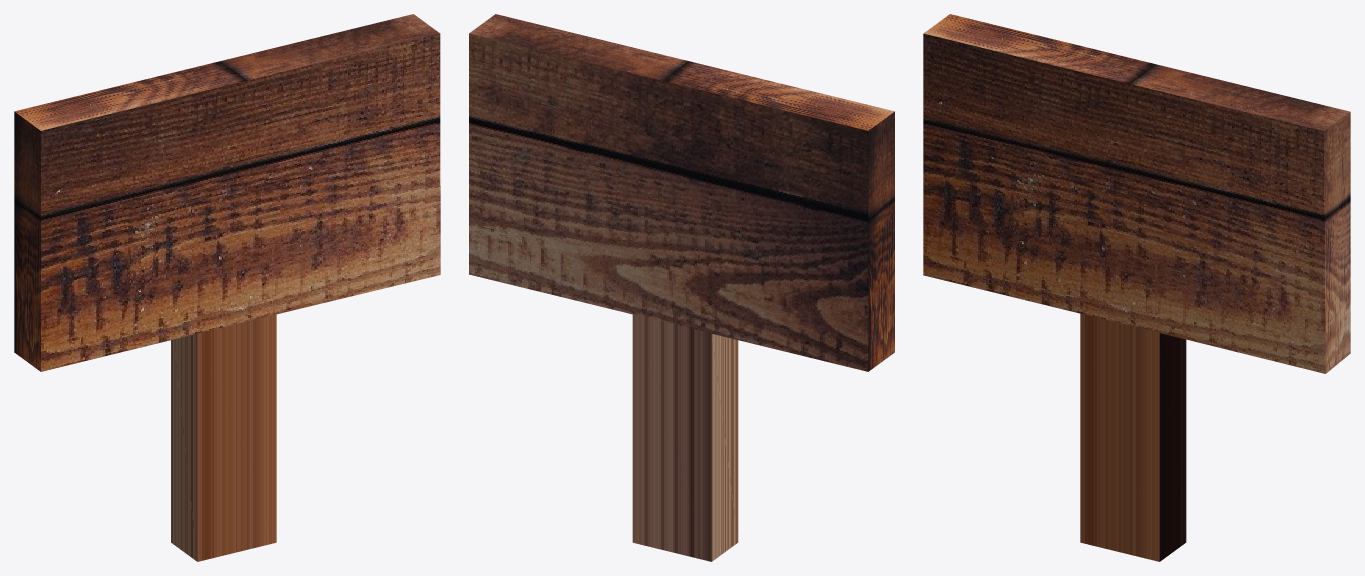
Rendered from Sign_complete.glb.
3 renders of one model, left to right at view 1: azimuth 30°, elevation 25°; view 2: azimuth 150°, elevation 25°; view 3: azimuth 330°, elevation 25°, orthographic.
Parts seen in each view (by area): view 1: Cube; view 2: Cube; view 3: Cube.
Boxes of the visible parts, x1=… form: Cube: x1=14, y1=14, x2=440, y2=561; Cube: x1=469, y1=14, x2=894, y2=561; Cube: x1=923, y1=14, x2=1350, y2=561.
Size of the model in its own units: 1.56 by 1.75 by 0.18.
1 material, 1 textured.
